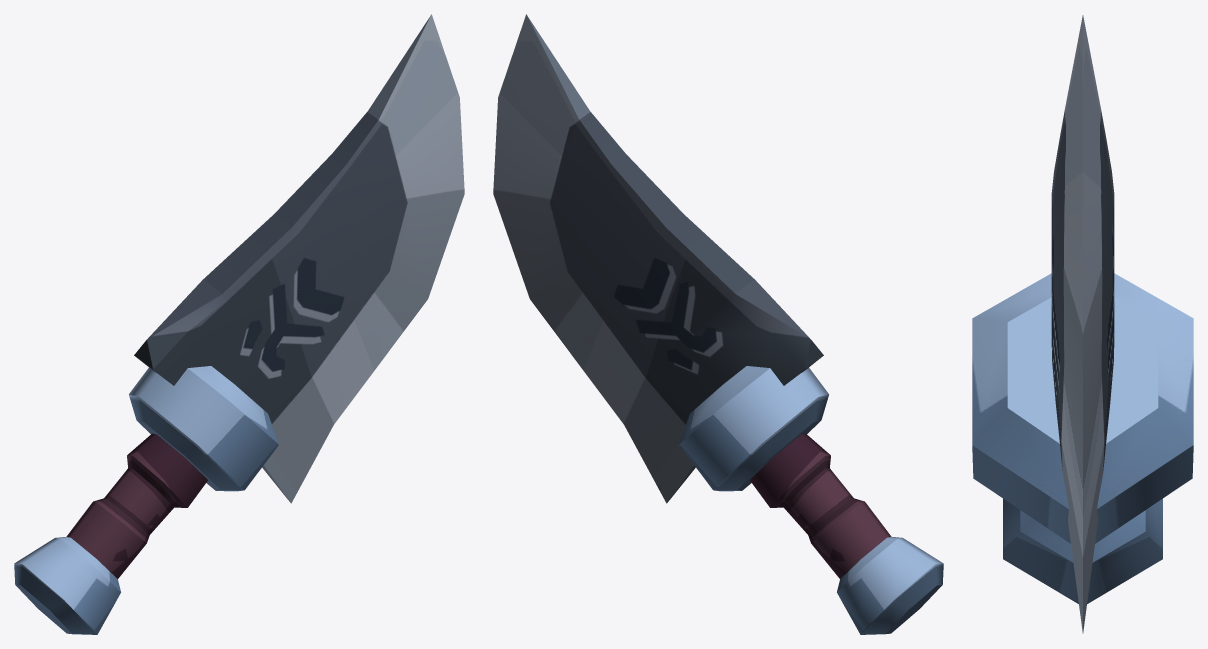
Rendered from Rune_02.FBX.
3 views of the same model, side by side, from view 1: azimuth 30°, elevation 25°; view 2: azimuth 150°, elevation 25°; view 3: azimuth 270°, elevation 25° (orthographic). The views are drawn at different scales.
Parts seen in each view (by area): view 1: Rune_02; view 2: Rune_02; view 3: Rune_02.
Part boxes in pixels (x1,y1,x2,y2): Rune_02: [14, 14, 464, 634]; Rune_02: [493, 14, 943, 634]; Rune_02: [972, 15, 1193, 633].
Bounding box in the file's own units: 61.65 × 71.22 × 16.6.
